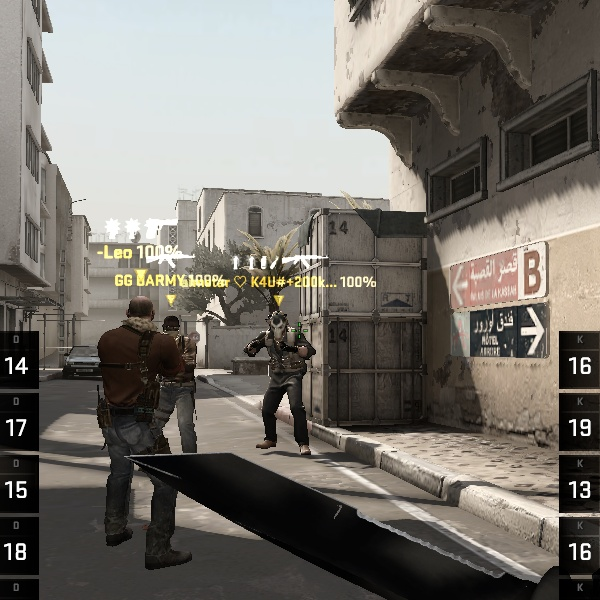t_body: (66, 291, 220, 577), (240, 308, 321, 455)
t_head: (117, 293, 164, 339), (262, 308, 295, 341)
